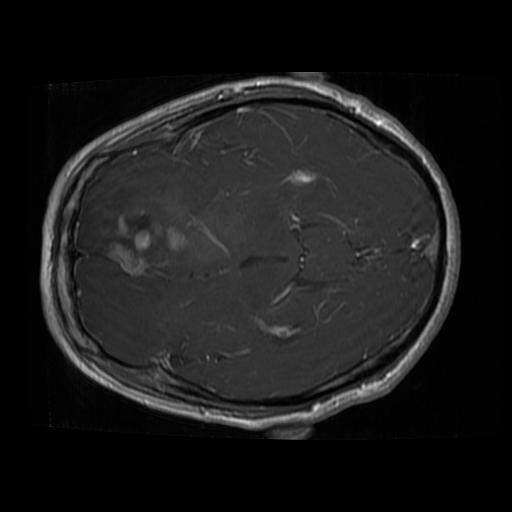glioma: (107, 209, 230, 281)
